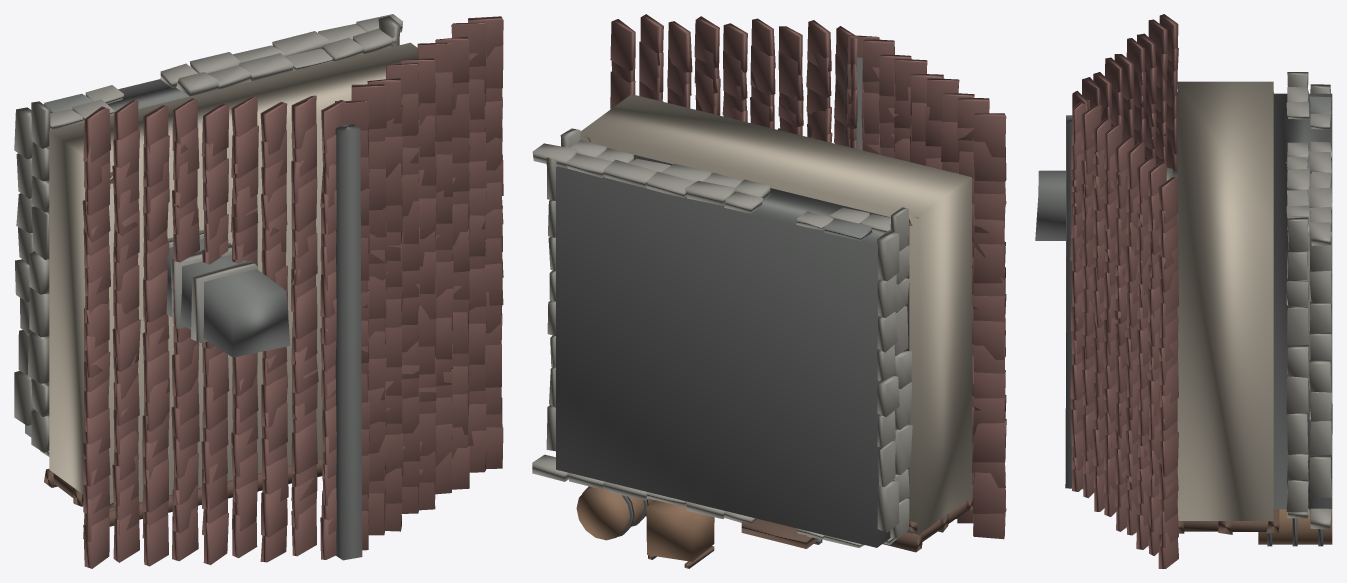
File: house_small_hd.glb
3 views of the same model, side by side, from view 1: azimuth 30°, elevation 25°; view 2: azimuth 150°, elevation 25°; view 3: azimuth 270°, elevation 25° (orthographic). The views are drawn at different scales.
Size of the model in its own units: 6.16 by 6.63 by 4.43.
